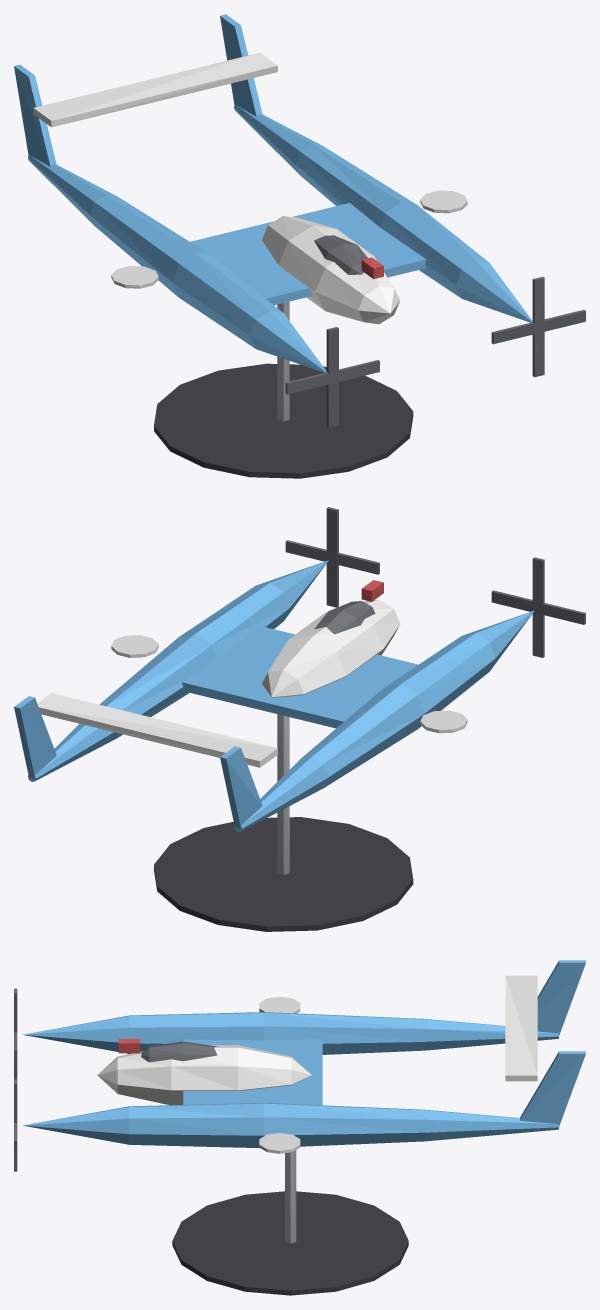
File: Fighter.glb
3 views of the same model, one above another, from view 1: azimuth 30°, elevation 25°; view 2: azimuth 150°, elevation 25°; view 3: azimuth 270°, elevation 25° (orthographic). The views are drawn at different scales.
Parts seen in each view (by area): view 1: Body; view 2: Body; view 3: Body.
Boxes of the visible parts, <box> form: Body: <box>14,14,585,478</box>; Body: <box>14,507,585,931</box>; Body: <box>14,960,585,1295</box>.
Size of the model in its own units: 0.68 by 0.49 by 1.06.
